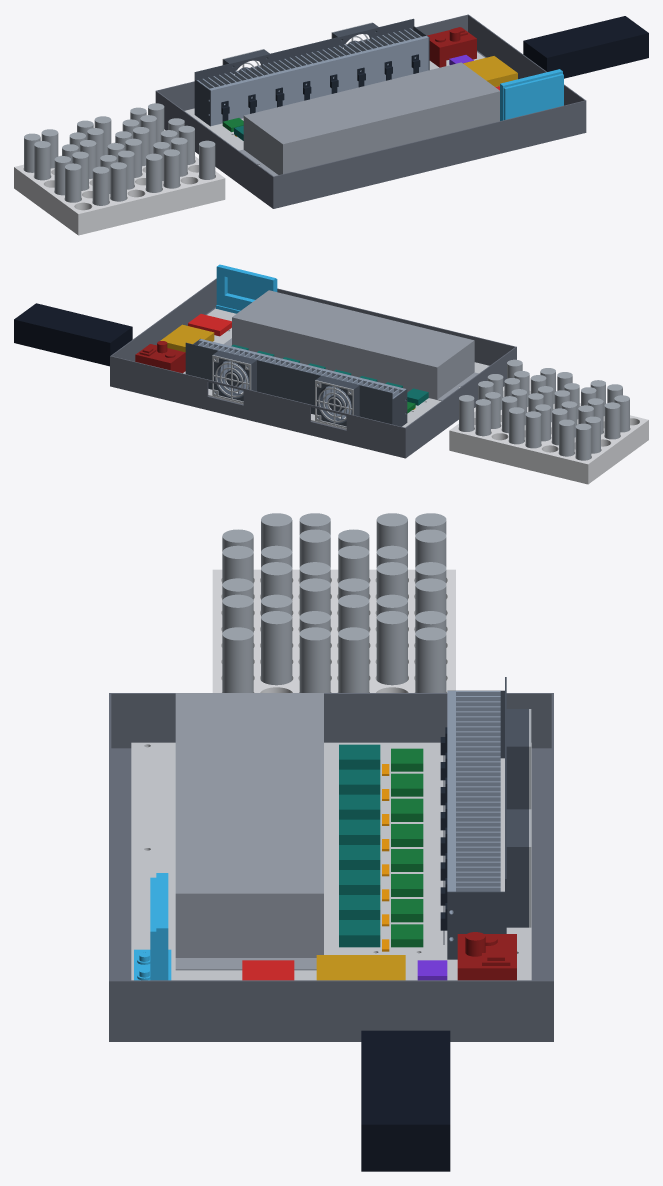
3 views of the same model, one above another, from view 1: azimuth 30°, elevation 25°; view 2: azimuth 150°, elevation 25°; view 3: azimuth 270°, elevation 25° (orthographic). The views are drawn at different scales.
Parts seen in each view (by area): view 1: Steel tray, liner and feet, Perforated steel cell guard, Cells resting (not supplied), Heatsink, vertical fins, Self-discharge rest rack, 48 cells, 12 V 5 A certified adapter, Fans, 60 mm, on shroud, Display and buttons on stand, Power inlet, fuse and switch, Load MOSFETs, Controller, ESP32-S3 class, Base plate on standoffs; view 2: Steel tray, liner and feet, Perforated steel cell guard, Cells resting (not supplied), Fans, 60 mm, on shroud, Self-discharge rest rack, 48 cells, 12 V 5 A certified adapter, Heatsink, vertical fins, Display and buttons on stand, Fan finger guards, 60 mm, Base plate on standoffs, Power inlet, fuse and switch, Controller, ESP32-S3 class (+2 smaller); view 3: Steel tray, liner and feet, Perforated steel cell guard, Cells resting (not supplied), Base plate on standoffs, 12 V 5 A certified adapter, Heatsink, vertical fins, Charger modules, 1 A CC-CV, Fans, 60 mm, on shroud, Self-discharge rest rack, 48 cells, Channel boards, Power inlet, fuse and switch, Display and buttons on stand (+3 smaller).
Boxes of the visible parts, x1,y1,x2,y2 form: Steel tray, liner and feet: (155,14,586,208); Perforated steel cell guard: (239,62,499,176); Cells resting (not supplied): (24,103,215,205); Heatsink, vertical fins: (197,28,428,125); Self-discharge rest rack, 48 cells: (14,142,225,235); 12 V 5 A certified adapter: (523,16,648,78); Fans, 60 mm, on shroud: (194,18,429,126); Display and buttons on stand: (500,69,563,120); Power inlet, fuse and switch: (427,27,476,67); Load MOSFETs: (221,54,420,121); Controller, ESP32-S3 class: (463,56,517,86); Base plate on standoffs: (185,52,484,165); Steel tray, liner and feet: (110,278,516,458); Perforated steel cell guard: (224,290,478,400); Cells resting (not supplied): (459,359,629,460); Fans, 60 mm, on shroud: (185,338,407,426); Self-discharge rest rack, 48 cells: (449,390,648,484); 12 V 5 A certified adapter: (14,303,132,366); Heatsink, vertical fins: (198,339,405,418); Display and buttons on stand: (216,264,277,313); Fan finger guards, 60 mm: (212,355,353,428); Base plate on standoffs: (183,308,489,429); Power inlet, fuse and switch: (135,341,185,373); Controller, ESP32-S3 class: (160,324,214,352); Steel tray, liner and feet: (109,693,553,1041); Perforated steel cell guard: (175,693,323,970); Cells resting (not supplied): (222,513,446,692); Base plate on standoffs: (131,742,531,980); 12 V 5 A certified adapter: (361,1030,450,1171); Heatsink, vertical fins: (447,691,500,940); Charger modules, 1 A CC-CV: (339,744,380,947); Fans, 60 mm, on shroud: (447,677,528,959); Self-discharge rest rack, 48 cells: (212,569,455,692); Channel boards: (391,748,423,947); Power inlet, fuse and switch: (457,932,516,980); Display and buttons on stand: (134,873,171,980).
Bounding box in the file's own units: 0.896 × 0.085 × 0.3.
